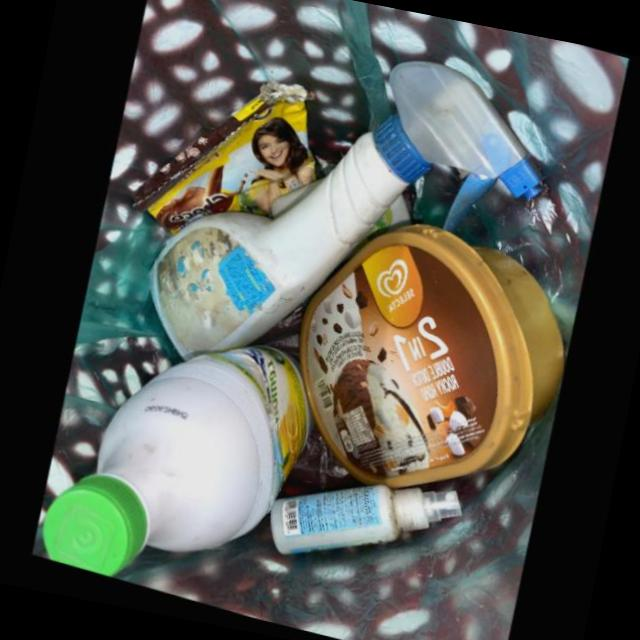bao_bi_thuc_pham: (129, 85, 333, 239)
chai_nhua: (149, 66, 542, 363), (38, 349, 307, 582), (267, 487, 460, 558)
hop_nhua: (296, 226, 564, 492)
